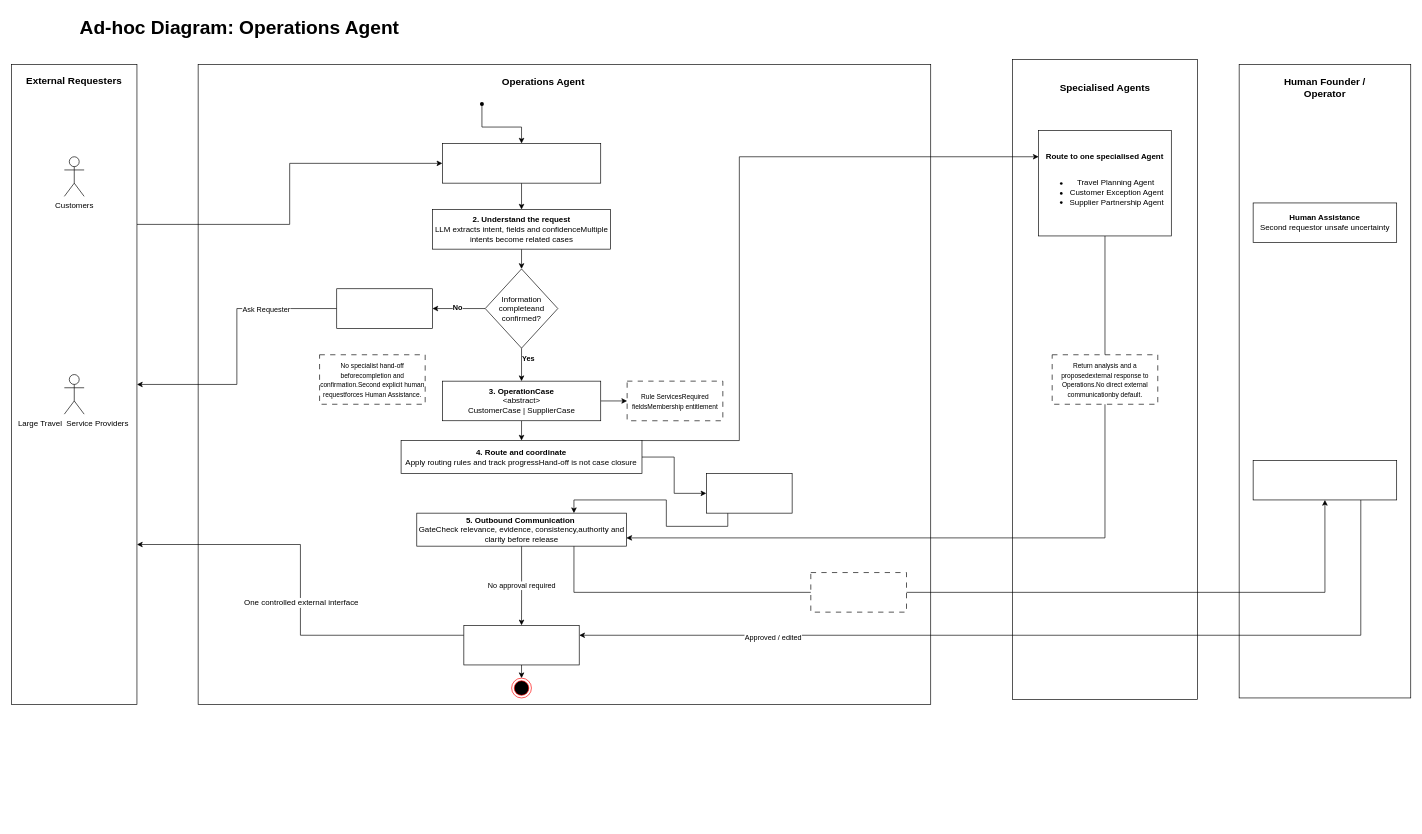
The diagram is 1422 pixels wide and 834 high, and some of its shapes have lost their labels. The shapes that lost their labels are listed below. From the top down, each one's centre as x and y in pixels, then its label:
At point 521,163: "1. Uniified intake Recieve request and create intake record".
At point 384,308: "Clarify missing data Use request-type rules".
At point 749,493: "Operations Routine / membership".
At point 1324,480: "Human Approval Contract, price, spending,refund or compensation".
At point 858,592: "Agent Trace Record every decision".
At point 521,645: "Send unified response Then close or continue the case".
